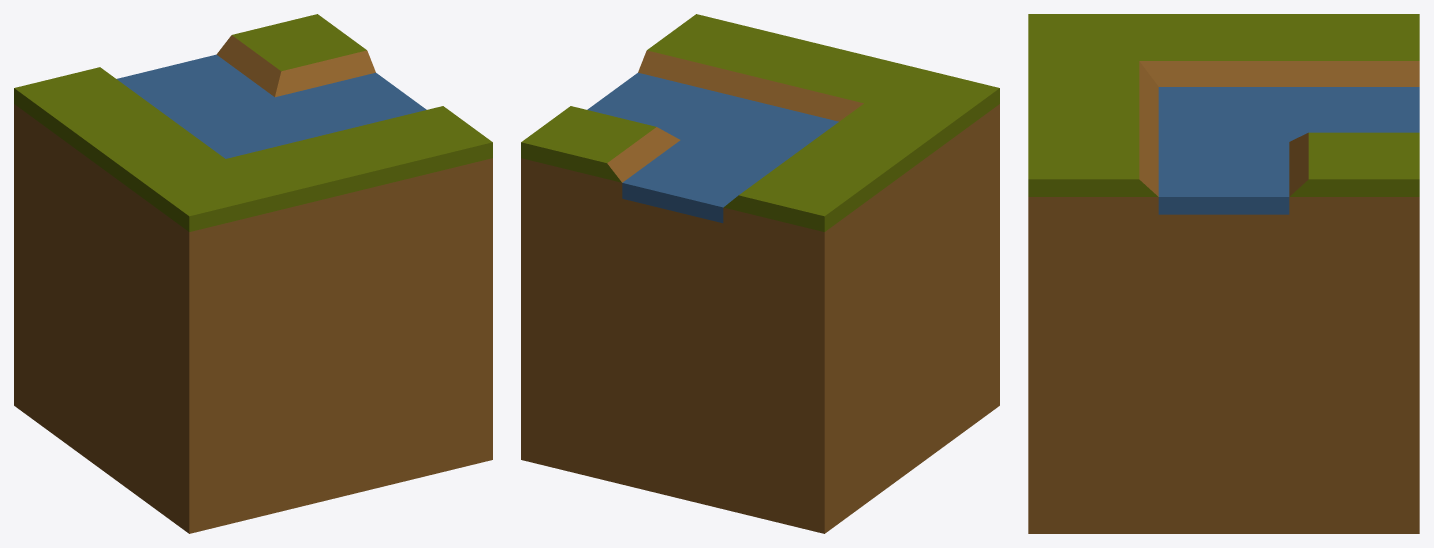
File: ForestRiverCurveCube.fbx
3 renders of one model, left to right at view 1: azimuth 30°, elevation 25°; view 2: azimuth 150°, elevation 25°; view 3: azimuth 270°, elevation 25°, orthographic. The views are drawn at different scales.
Parts seen in each view (by area): view 1: ForestRiverCurveCube; view 2: ForestRiverCurveCube; view 3: ForestRiverCurveCube.
Part boxes in pixels (left/top/right/bottom): ForestRiverCurveCube: left=14, top=14, right=492, bottom=533; ForestRiverCurveCube: left=521, top=14, right=999, bottom=533; ForestRiverCurveCube: left=1028, top=14, right=1419, bottom=533.
Bounding box in the file's own units: 100 × 100 × 100.
